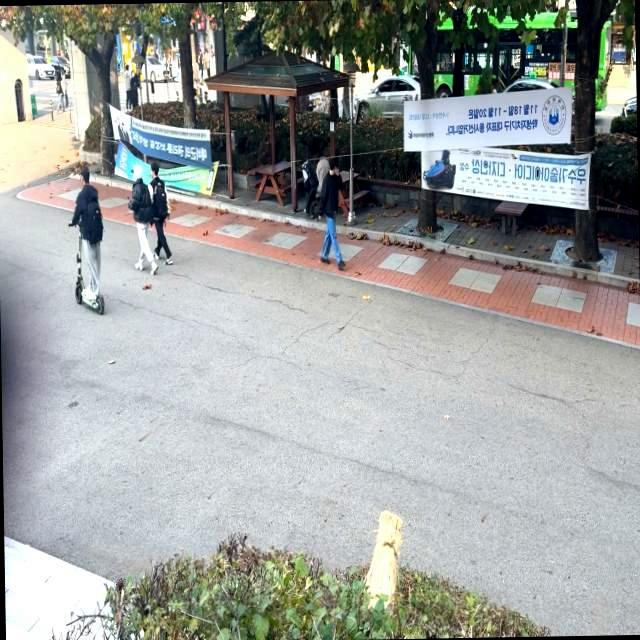bare_head: (69, 161, 97, 188)
human: (62, 154, 107, 298)
kickboard: (64, 273, 118, 329)
